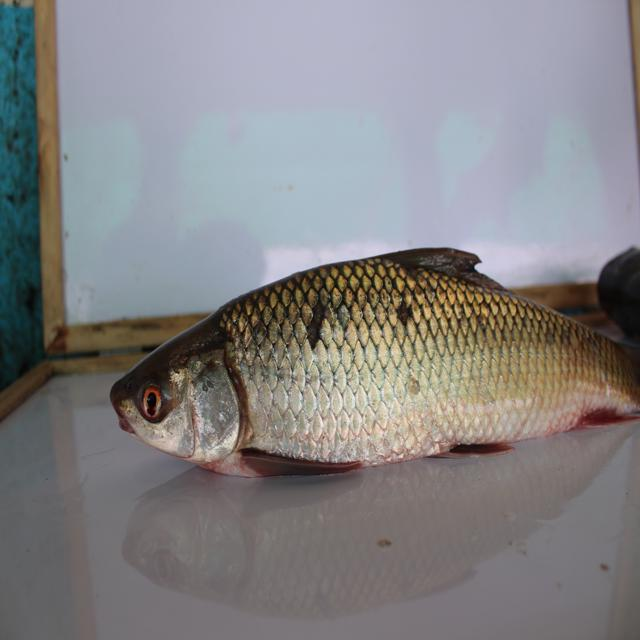Mori: (135, 234, 634, 516)
